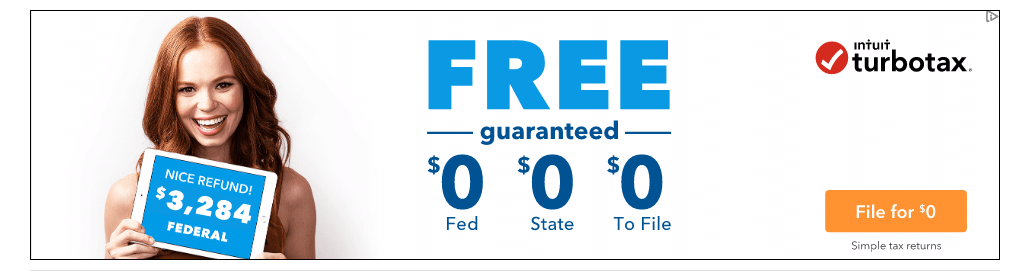fake_button: (820, 182, 973, 239)
